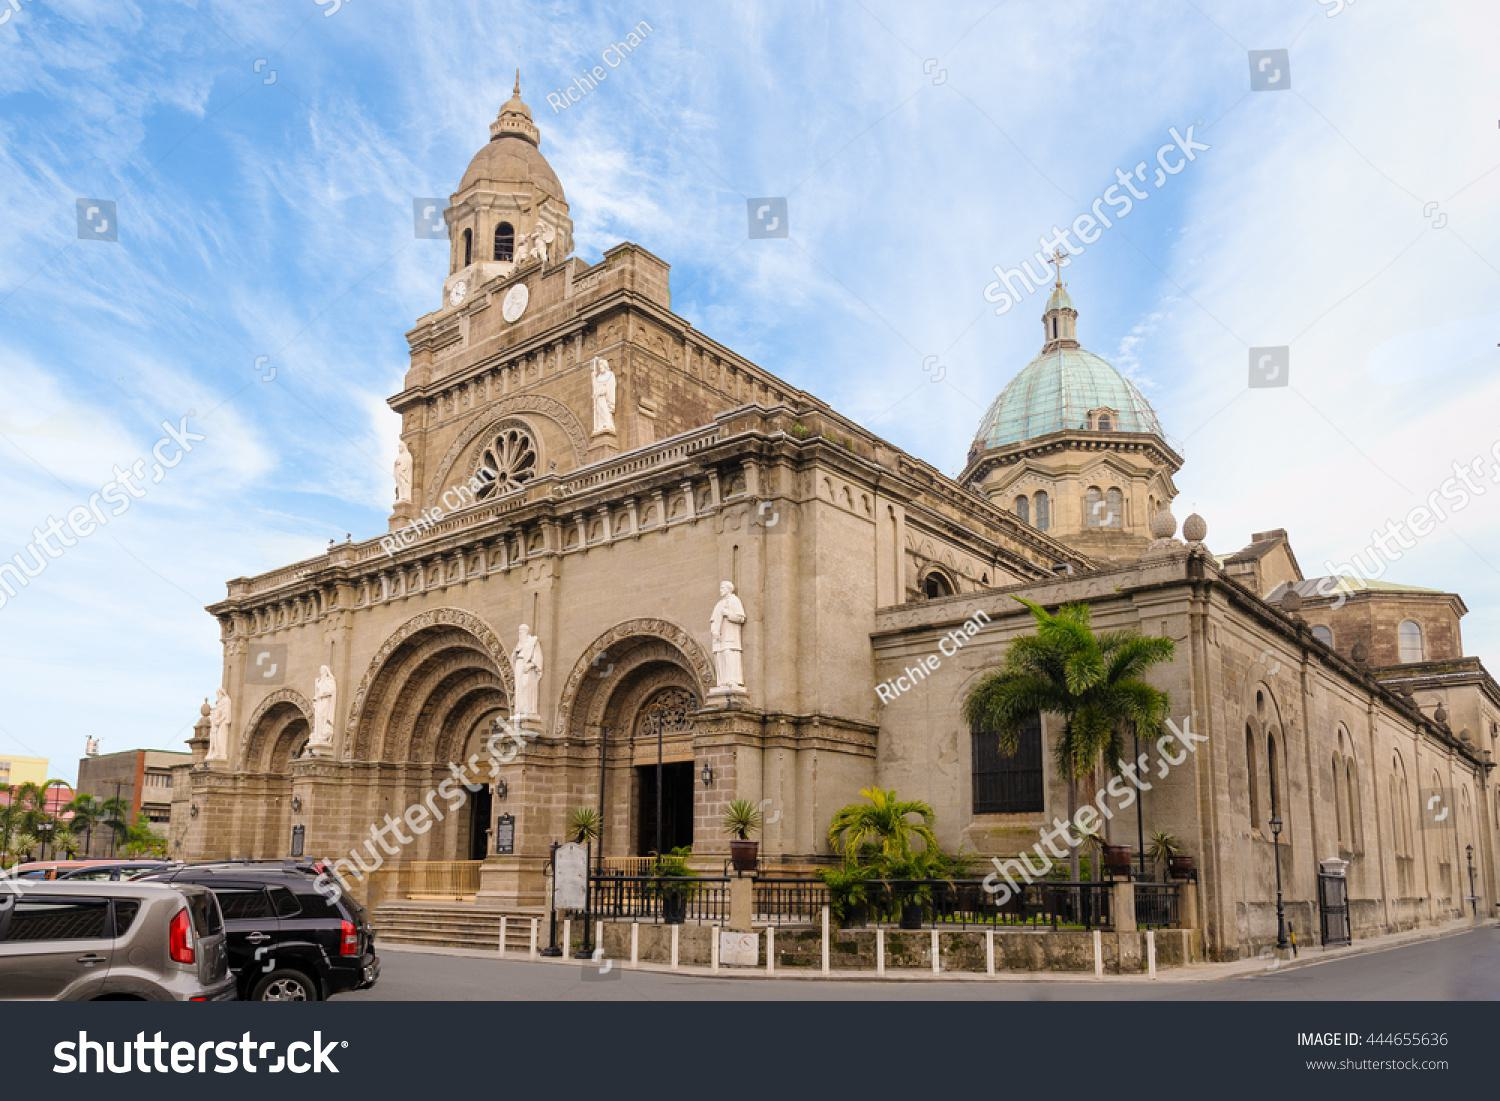manila_cathedral_church_intramuros_manila: (210, 61, 929, 979)
